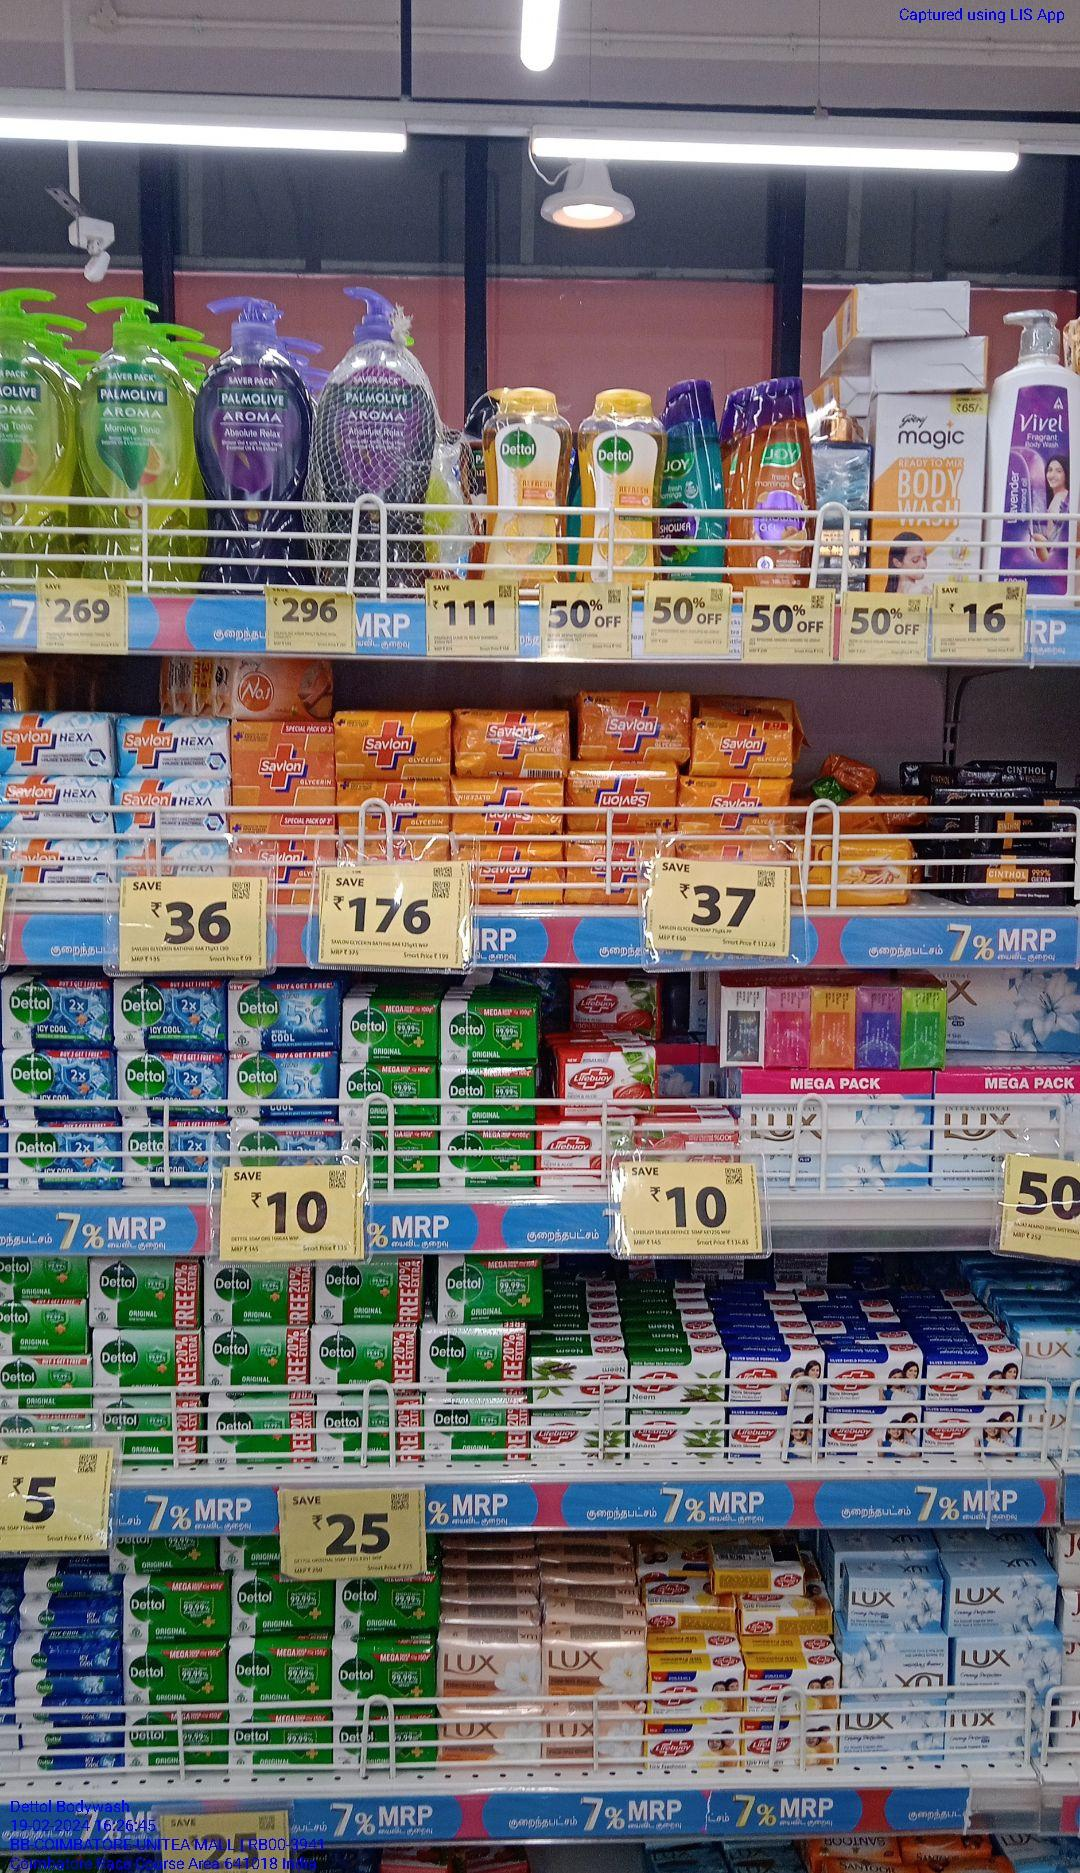Dettol_Bodywash_Refresh: (477, 382, 572, 579), (573, 386, 666, 584)
Joy_Shower_Gel_Mandarin_and_Lemongrass_250ML: (726, 372, 813, 588)
